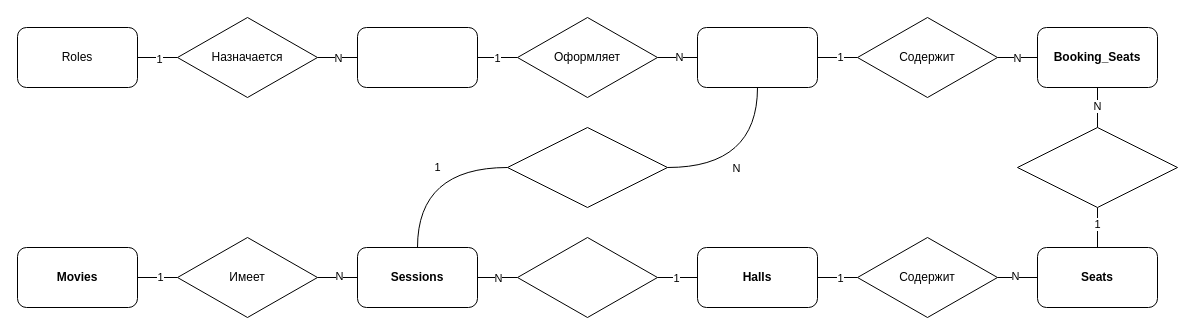
Some shapes in this 1195 by 335 pixel diagram are drawn without their labels. The shapes that lost their labels are listed below. From the top down, each one's centre as x and y in pixels, then its label:
At [417,57]: "Users".
At [757,57]: "Bookings".
At [587,167]: "Относится к".
At [1097,167]: "Ссылается на".
At [587,277]: "Проводится".
